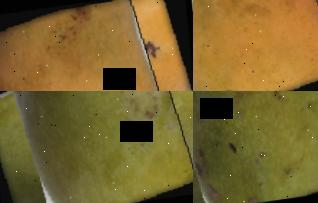Ripe: (0, 0, 193, 91), (193, 0, 318, 91)
Unripe: (0, 91, 193, 203), (193, 91, 318, 203)
